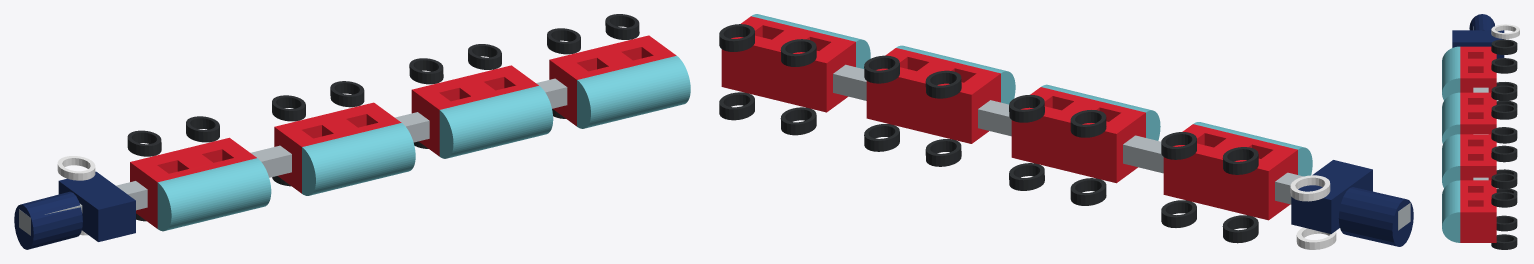
Rendered from tinker.obj.
3 views of the same model, side by side, from view 1: azimuth 30°, elevation 25°; view 2: azimuth 150°, elevation 25°; view 3: azimuth 270°, elevation 25° (orthographic). The views are drawn at different scales.
Visible parts, largest first — view 1: group_0_7720667, group_0_15277357, group_0_2829873, group_0_1650274, group_0_12568524, group_0_16448250; view 2: group_0_15277357, group_0_2829873, group_0_1650274, group_0_12568524, group_0_7720667, group_0_16448250; view 3: group_0_15277357, group_0_2829873, group_0_7720667, group_0_1650274, group_0_16448250, group_0_12568524.
Part boxes in pixels (<box>): group_0_7720667: <box>157,55,690,231</box>; group_0_15277357: <box>130,35,676,228</box>; group_0_2829873: <box>127,14,639,221</box>; group_0_1650274: <box>14,171,135,249</box>; group_0_12568524: <box>19,78,567,235</box>; group_0_16448250: <box>57,156,95,235</box>; group_0_15277357: <box>721,16,1297,220</box>; group_0_2829873: <box>719,24,1258,243</box>; group_0_1650274: <box>1291,160,1413,246</box>; group_0_12568524: <box>833,64,1410,230</box>; group_0_7720667: <box>751,14,1312,176</box>; group_0_16448250: <box>1290,175,1336,249</box>; group_0_15277357: <box>1460,46,1496,242</box>; group_0_2829873: <box>1491,39,1517,249</box>; group_0_7720667: <box>1442,46,1460,242</box>; group_0_1650274: <box>1452,14,1504,58</box>; group_0_16448250: <box>1491,24,1519,38</box>; group_0_12568524: <box>1473,26,1488,180</box>.
Size of the model in its own units: 185 by 22 by 30.
